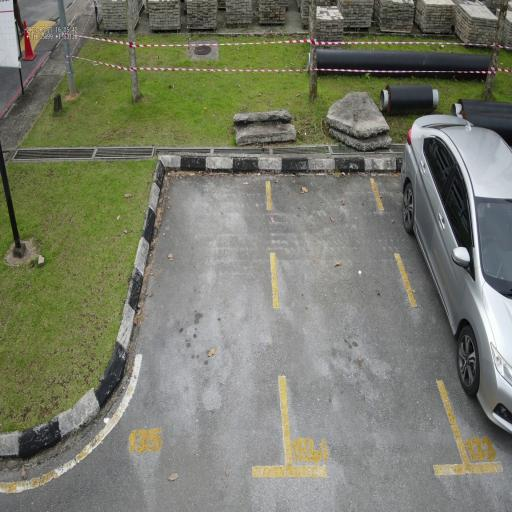Empty: (261, 167, 479, 486), (98, 165, 294, 489)
